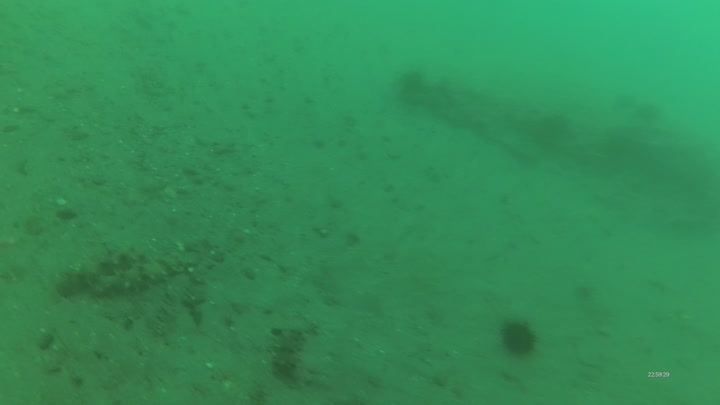echinus: (498, 318, 539, 354)
holothurian: (93, 249, 197, 298)
